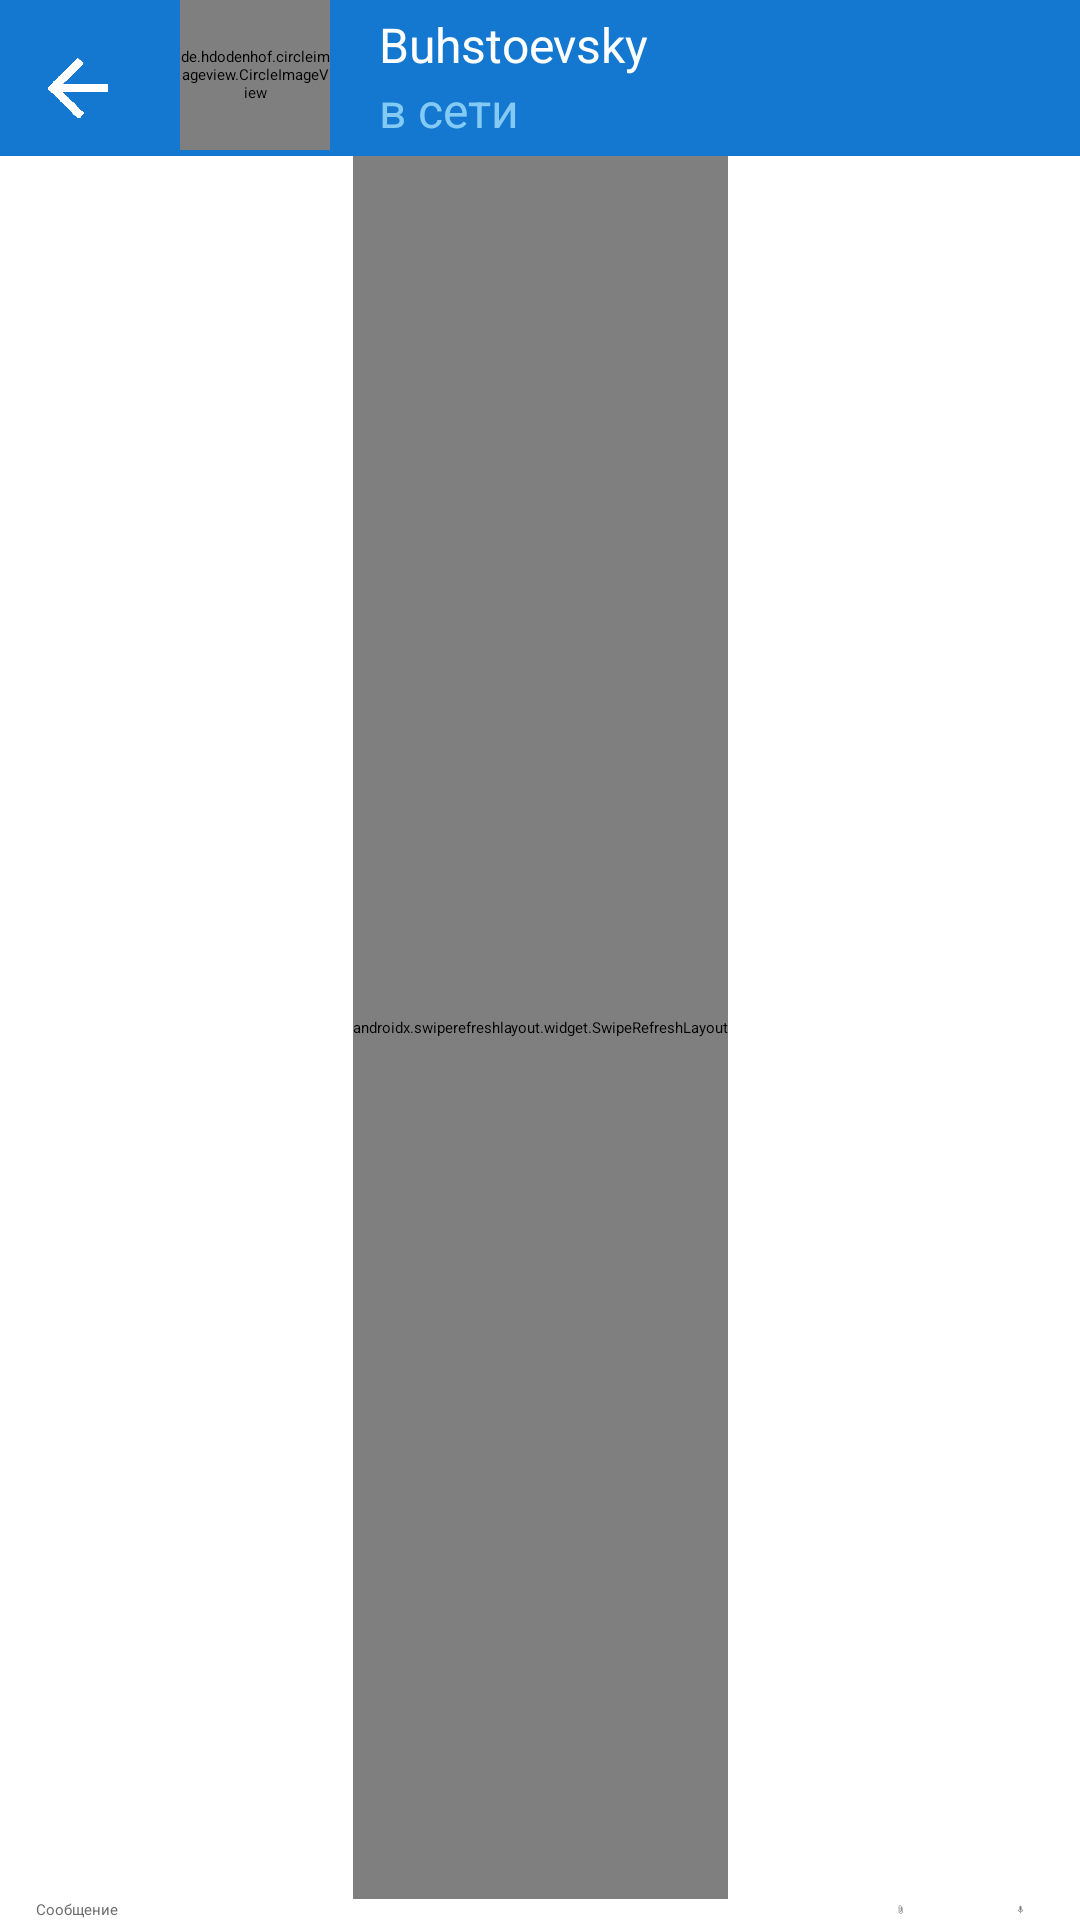

Icons on this 1080×1920 Android screen, each with its box as (x1, y1, x2, y2):
arrow back: (48, 58, 108, 118)
